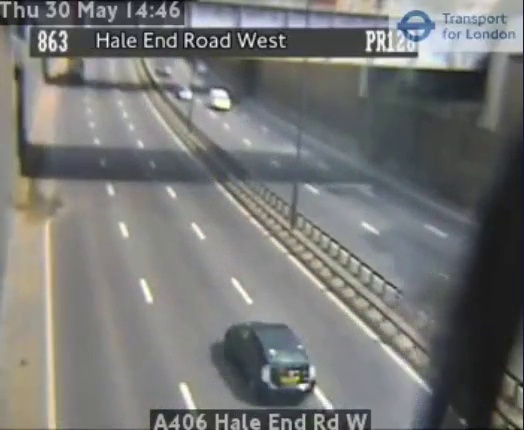car: (227, 323, 316, 398)
